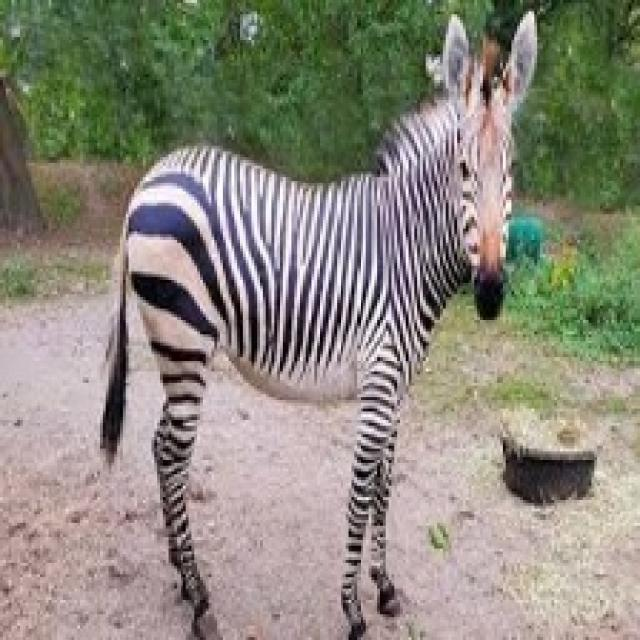animal: (126, 3, 554, 628)
